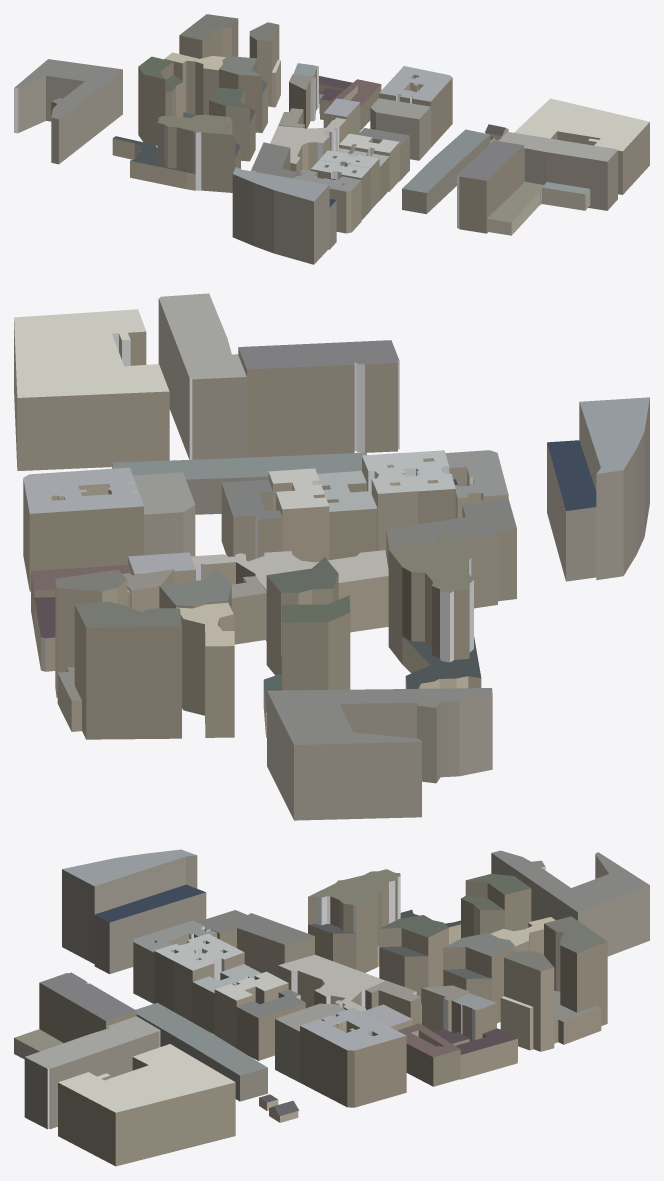
The picture shows the model from 3 angles, top to bottom: view 1: azimuth 30°, elevation 25°; view 2: azimuth 150°, elevation 25°; view 3: azimuth 270°, elevation 25°; orthographic projection. The views are drawn at different scales.
Visible parts, largest first — view 1: tuile; view 2: tuile; view 3: tuile.
Part boxes in pixels (left/top/right/bottom): tuile: left=14, top=14, right=649, bottom=264; tuile: left=14, top=293, right=649, bottom=820; tuile: left=14, top=849, right=649, bottom=1166.
Bounding box in the file's own units: 254 × 40.86 × 258.
